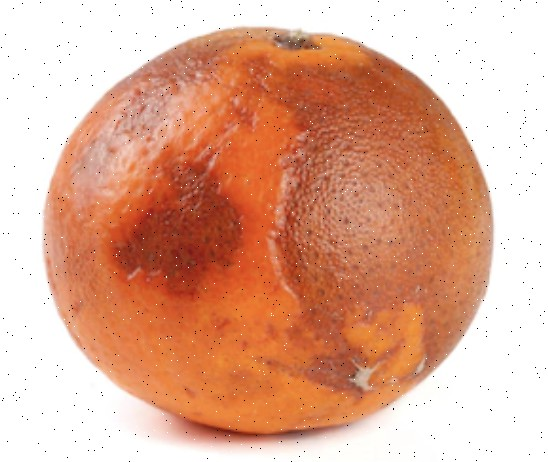rotten_orange: (45, 27, 494, 434)
